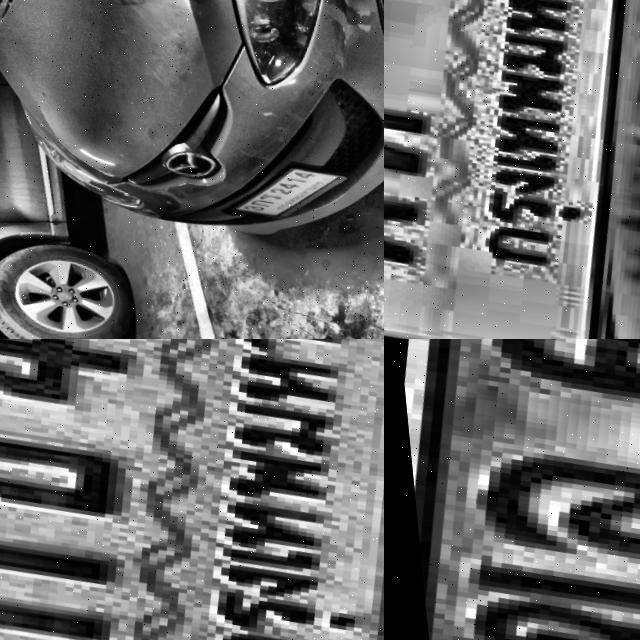license-plate: (0, 339, 384, 640), (384, 0, 640, 339), (384, 339, 640, 640), (216, 155, 343, 236)
